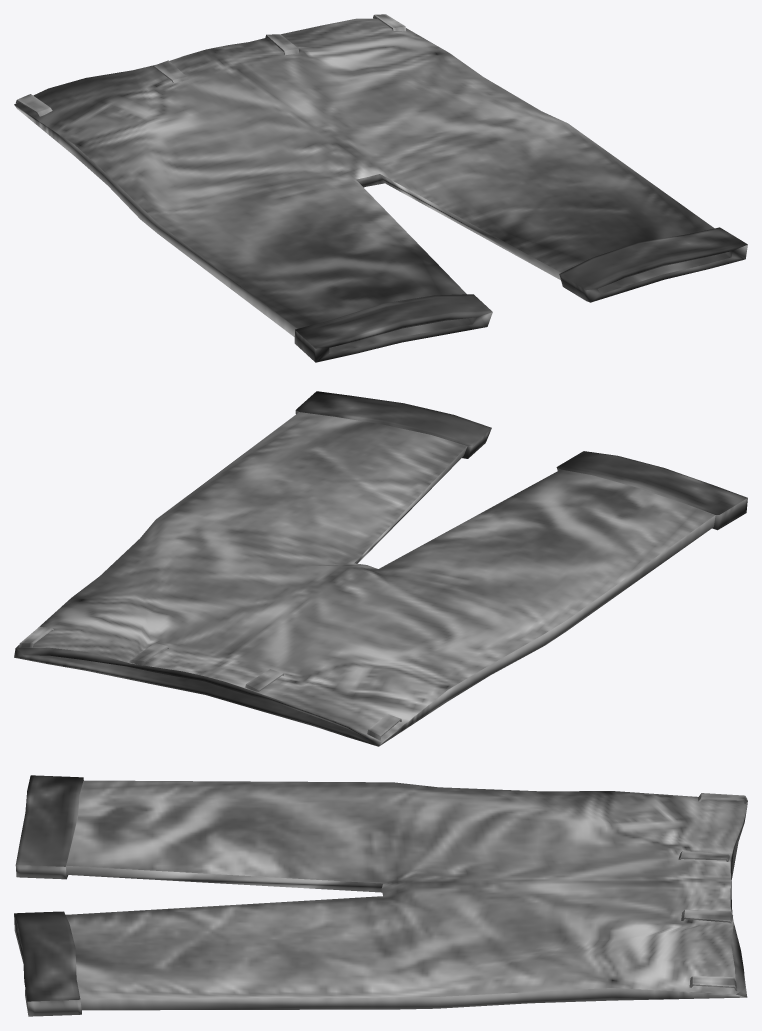
Rendered from short-shadows.obj.
3 views of the same model, one above another, from view 1: azimuth 30°, elevation 25°; view 2: azimuth 150°, elevation 25°; view 3: azimuth 270°, elevation 25° (orthographic). The views are drawn at different scales.
Parts seen in each view (by area): view 1: textured_Plane.002, strips-textured_Plane.003; view 2: textured_Plane.002, strips-textured_Plane.003; view 3: textured_Plane.002, strips-textured_Plane.003.
Part boxes in pixels (<box>): textured_Plane.002: <box>14,18,747,362</box>; strips-textured_Plane.003: <box>16,14,405,116</box>; textured_Plane.002: <box>14,391,747,746</box>; strips-textured_Plane.003: <box>18,626,401,740</box>; textured_Plane.002: <box>14,775,747,1016</box>; strips-textured_Plane.003: <box>678,793,747,990</box>.
Bounding box in the file's own units: 37.83 × 1.94 × 51.86.
Materials: 2 (1 with a texture image).
